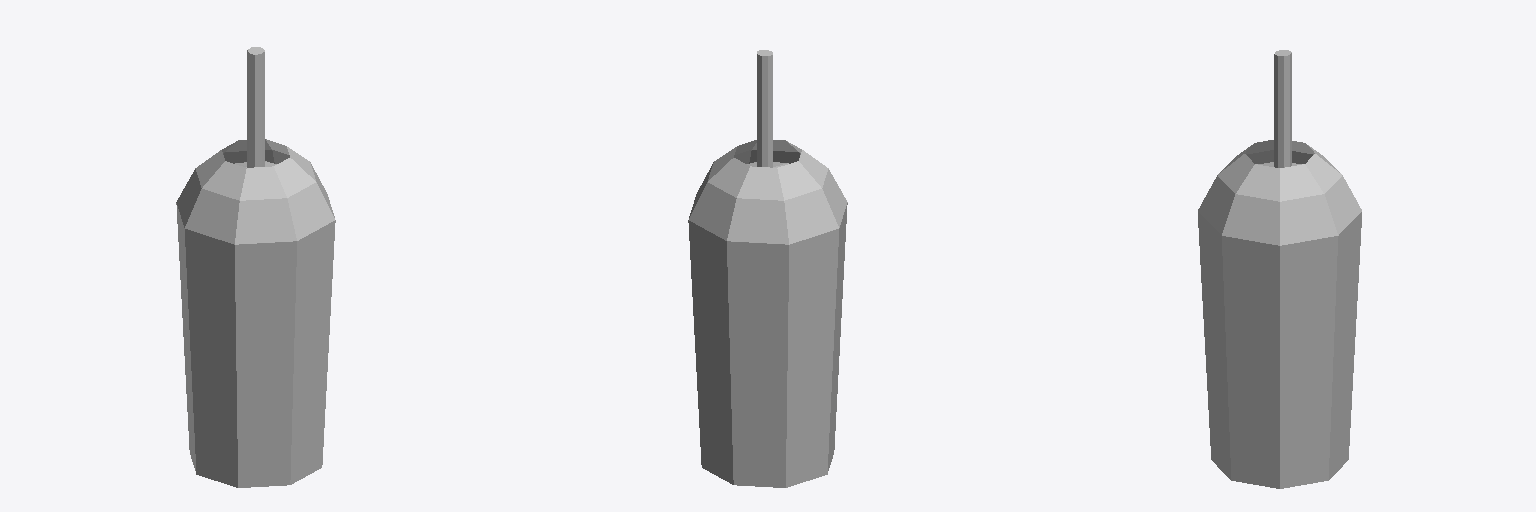
File: slurpee.obj
The picture shows the model from 3 angles: view 1: azimuth 30°, elevation 25°; view 2: azimuth 150°, elevation 25°; view 3: azimuth 270°, elevation 25°; orthographic projection.
Visible parts, largest first — view 1: slurpee; view 2: slurpee; view 3: slurpee.
Boxes of the visible parts, x1,y1,x2,y2 form: slurpee: [176, 47, 335, 487]; slurpee: [688, 50, 847, 487]; slurpee: [1198, 50, 1361, 488].
Size of the model in its own units: 2.4 by 6.56 by 2.4.